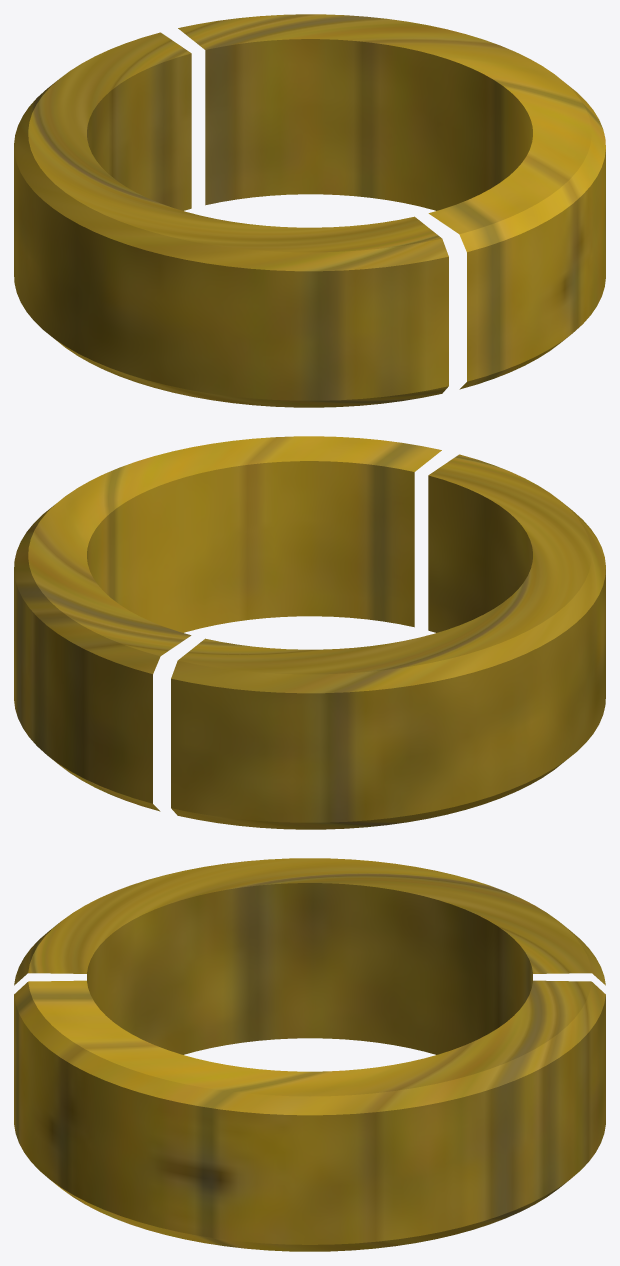
Rendered from SM_Anneaux_3po.glb.
3 renders of one model, top to bottom at view 1: azimuth 30°, elevation 25°; view 2: azimuth 150°, elevation 25°; view 3: azimuth 270°, elevation 25°, orthographic.
Parts seen in each view (by area): view 1: Anneau_3po_B, Anneau_3po_A; view 2: Anneau_3po_B, Anneau_3po_A; view 3: Anneau_3po_A, Anneau_3po_B.
Boxes of the visible parts, x1,y1,x2,y2 form: Anneau_3po_B: (14, 32, 448, 407); Anneau_3po_A: (178, 14, 605, 389); Anneau_3po_B: (171, 454, 605, 829); Anneau_3po_A: (14, 436, 441, 811); Anneau_3po_A: (14, 980, 605, 1251); Anneau_3po_B: (14, 858, 605, 1054).
Bounding box in the file's own units: 0.0626 × 0.0181 × 0.0625.
1 material, 1 textured.
